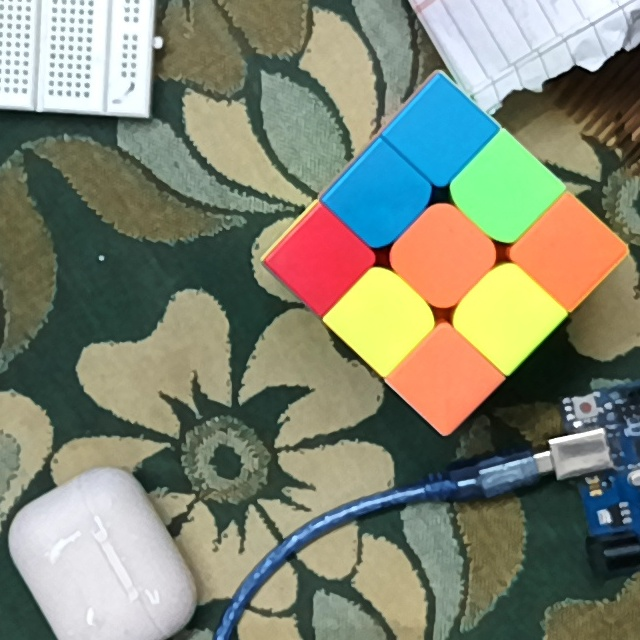tile: (416, 225, 474, 285), (475, 287, 537, 343), (535, 225, 596, 279), (476, 163, 533, 219), (419, 349, 474, 406), (410, 107, 468, 160), (355, 290, 408, 348), (353, 172, 406, 226), (297, 228, 347, 284)
